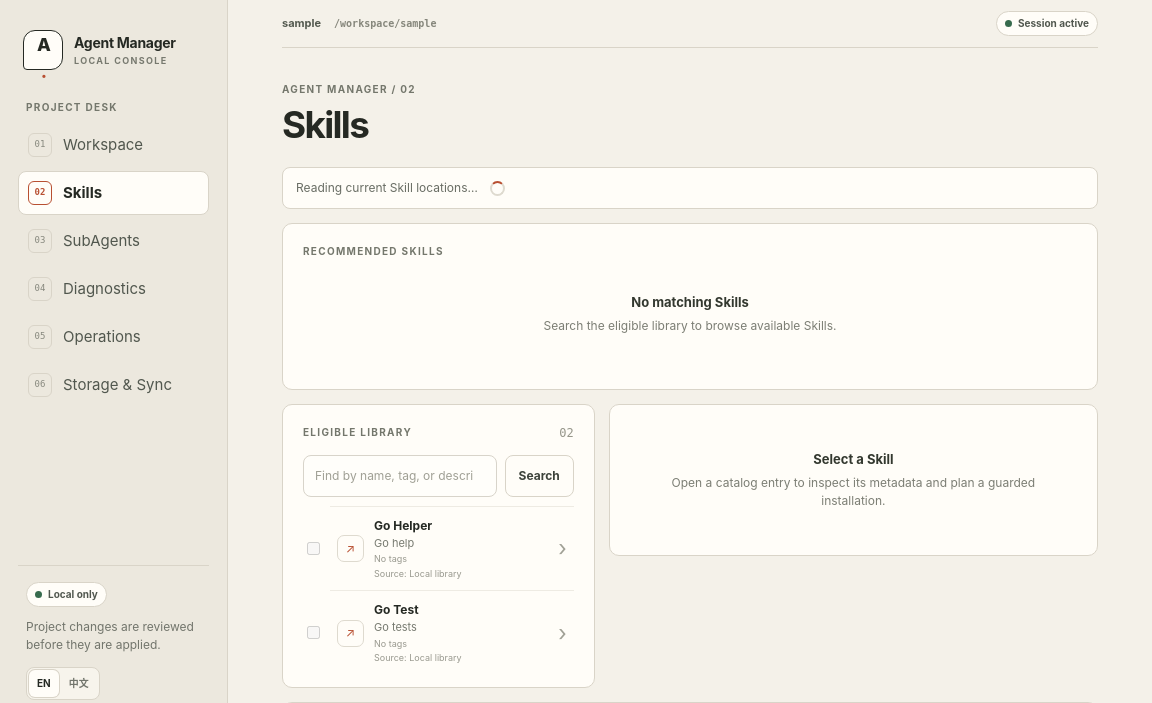
Scenario: console entry and guarded installation › blocks mutations on catalog failure without removing selection
The width and height of the screenshot is (1152, 703).
What coordinates should you click on to do the following:
click the checkbox named "Select go-helper"
I would click on:
 (314, 548)
Its box is [307,542,320,555].
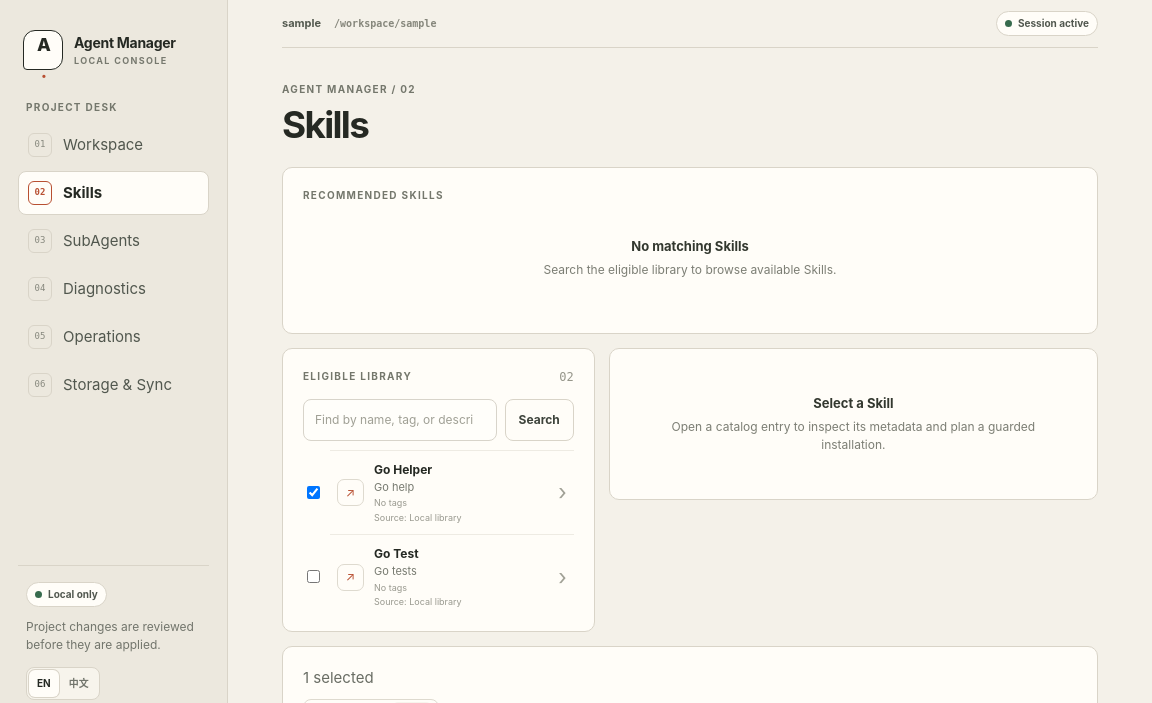
What coordinates should you click on to do the following:
click the button "Search"
I would click on:
 (539, 420)
Its box is [504,399,574,441].
(page scrolled)
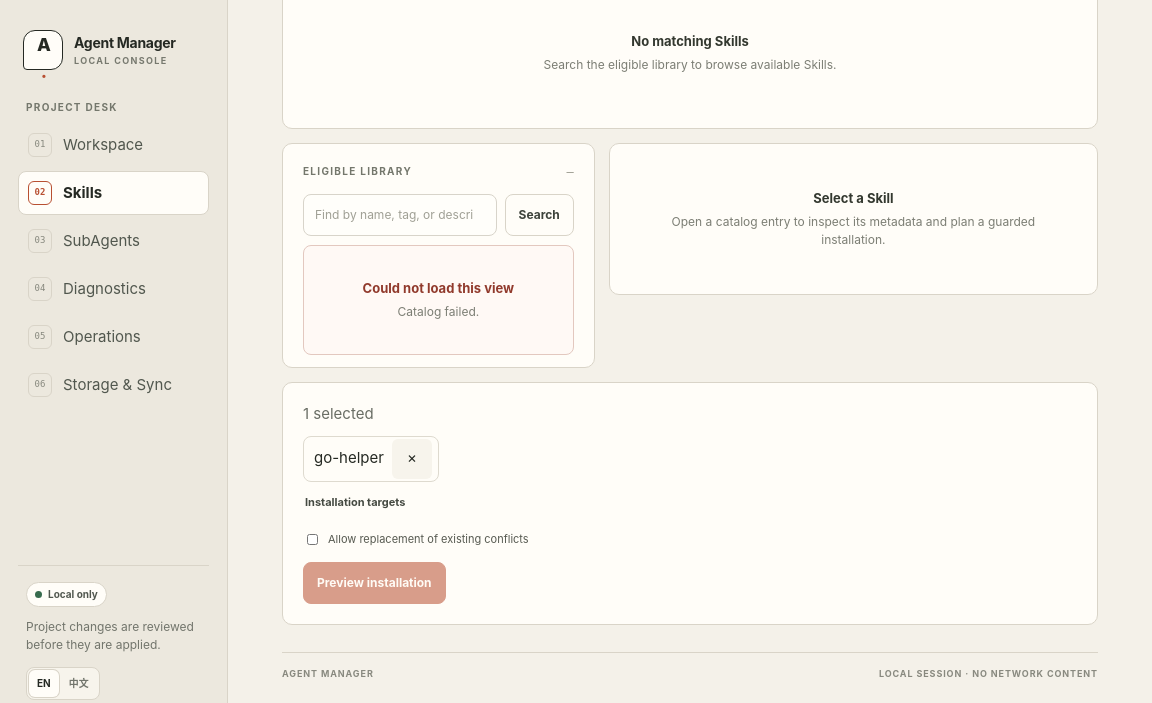
Expected: the text "1 selected" is shown, [303,404,374,423]
Expected: the button "Preview installation" is disabled, [303,562,446,604]
Expected: the message shows "Catalog failed.", [398,304,479,319]
